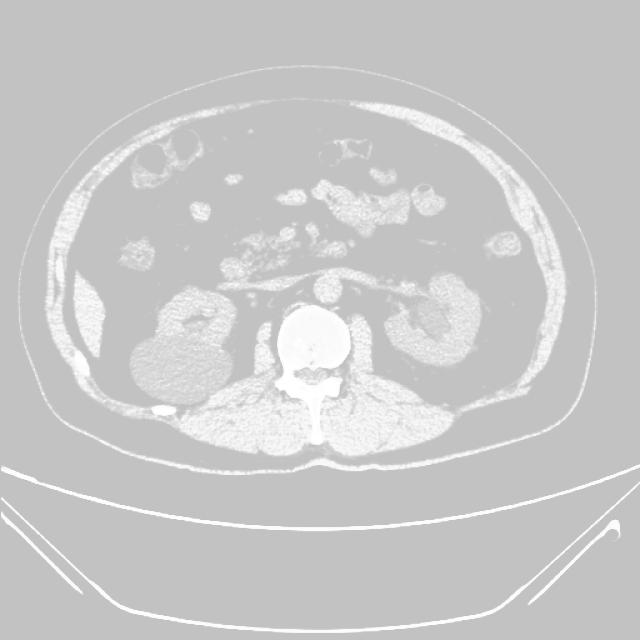cysts: (39, 85, 575, 469)
